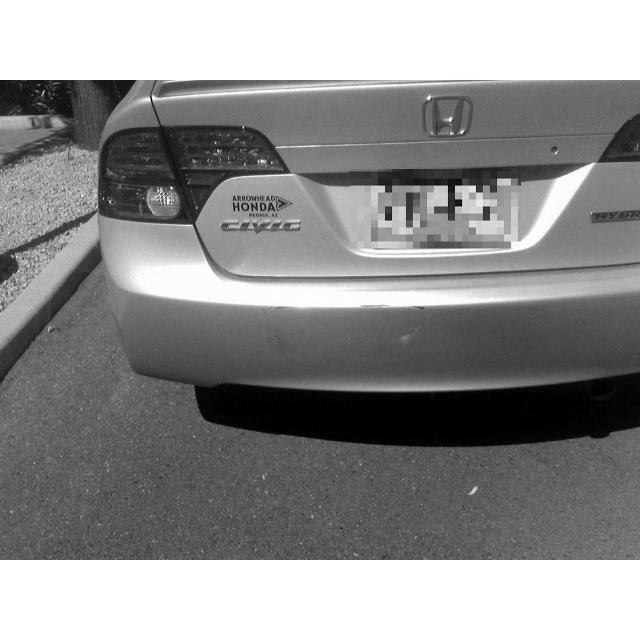rear-bumper-dent: (213, 282, 547, 409)
